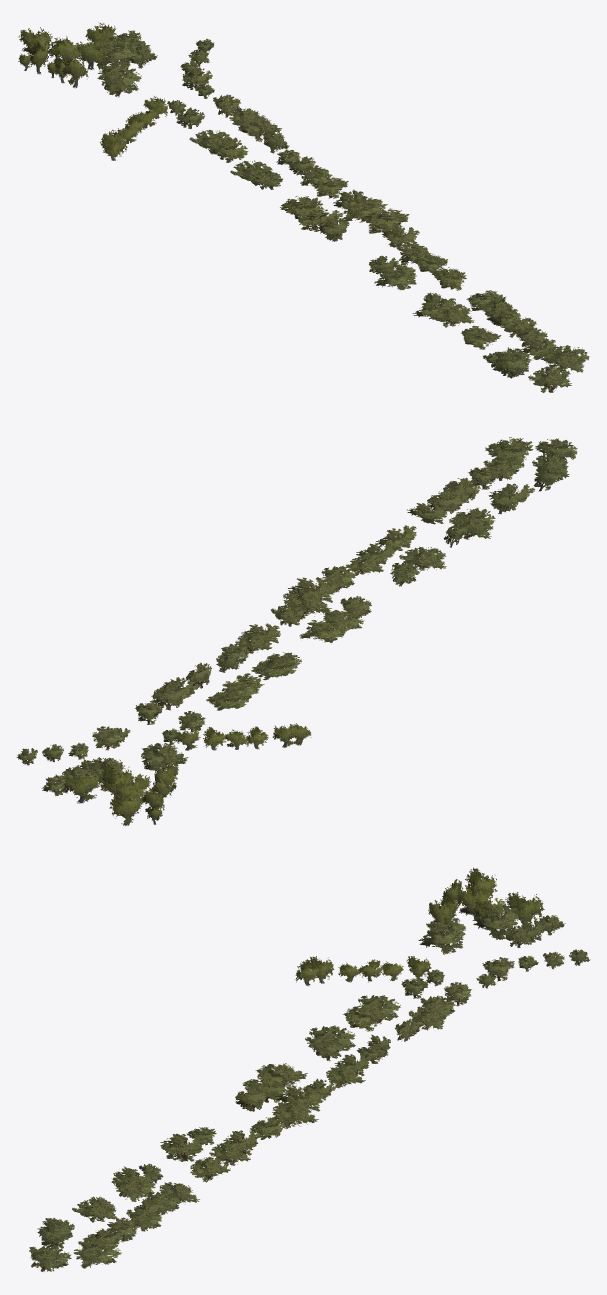
The picture shows the model from 3 angles, top to bottom: view 1: azimuth 30°, elevation 25°; view 2: azimuth 150°, elevation 25°; view 3: azimuth 330°, elevation 25°; orthographic projection. The views are drawn at different scales.
Visible parts, largest first — view 1: geometry_0; view 2: geometry_0; view 3: geometry_0.
Boxes of the visible parts, bbox=[...] form: geometry_0: bbox=[18, 22, 589, 392]; geometry_0: bbox=[16, 437, 577, 825]; geometry_0: bbox=[29, 867, 590, 1271].
Size of the model in its own units: 110 by 17.61 by 458.
1 material, 1 textured.
